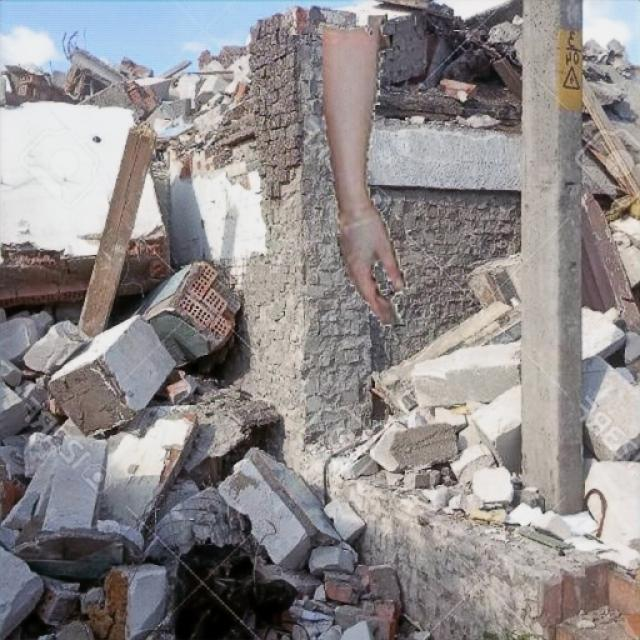Person in Rubble: (322, 15, 407, 326)
